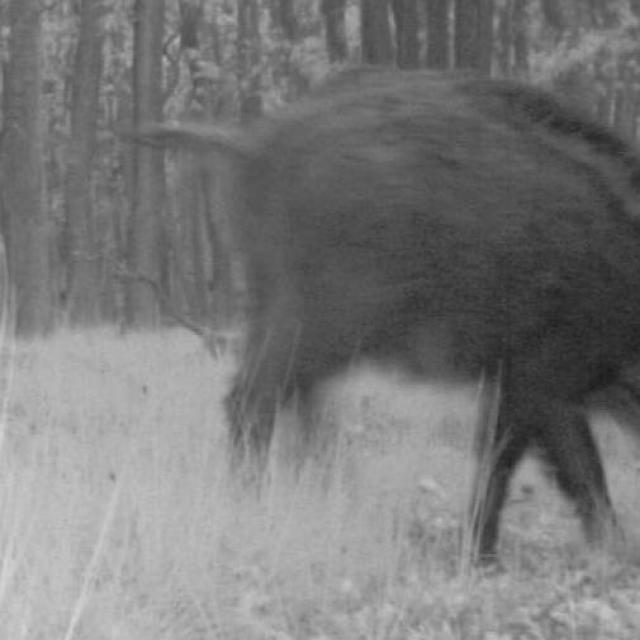pig: (140, 0, 640, 542)
